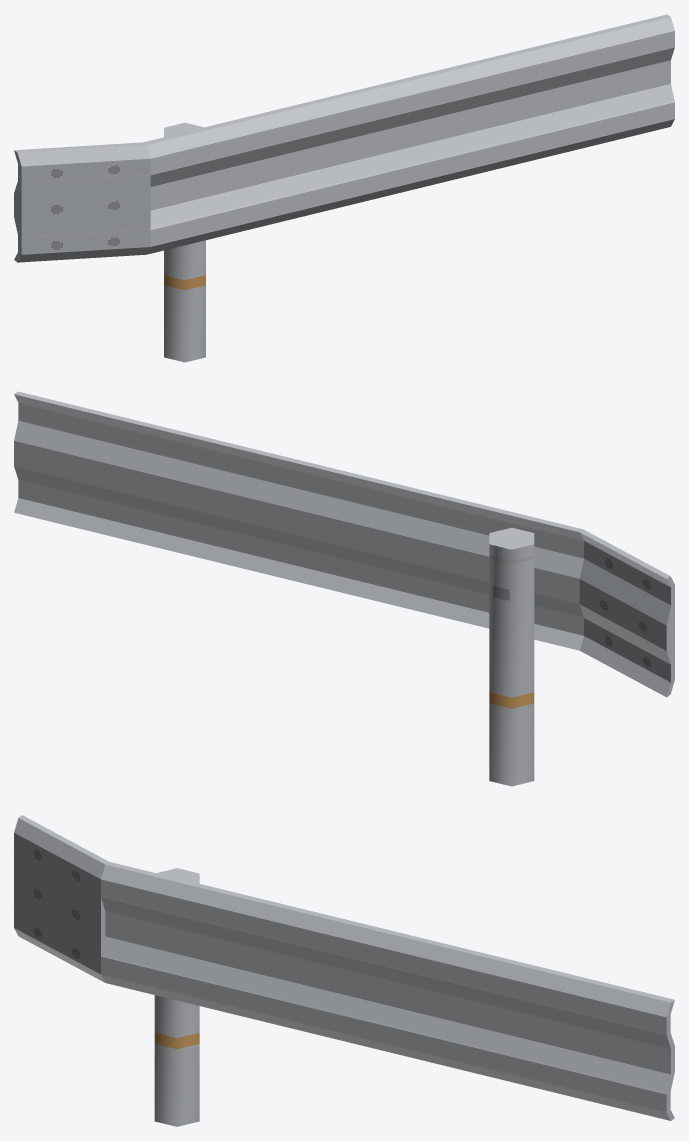
Rendered from 02e0_Guardrail_Right.glb.
3 views of the same model, one above another, from view 1: azimuth 30°, elevation 25°; view 2: azimuth 150°, elevation 25°; view 3: azimuth 330°, elevation 25° (orthographic). The views are drawn at different scales.
Visible parts, largest first — view 1: part_0; view 2: part_0; view 3: part_0.
Part boxes in pixels (left/top/right/bottom): part_0: left=14, top=14, right=674, bottom=362; part_0: left=14, top=391, right=674, bottom=786; part_0: left=14, top=815, right=674, bottom=1126.
Size of the model in its own units: 3 by 1.05 by 0.2634.
Materials: 1 (1 with a texture image).
